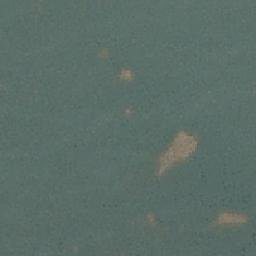debris: (157, 131, 194, 174), (213, 210, 248, 230), (119, 70, 133, 80), (121, 105, 133, 116), (146, 213, 156, 226)
